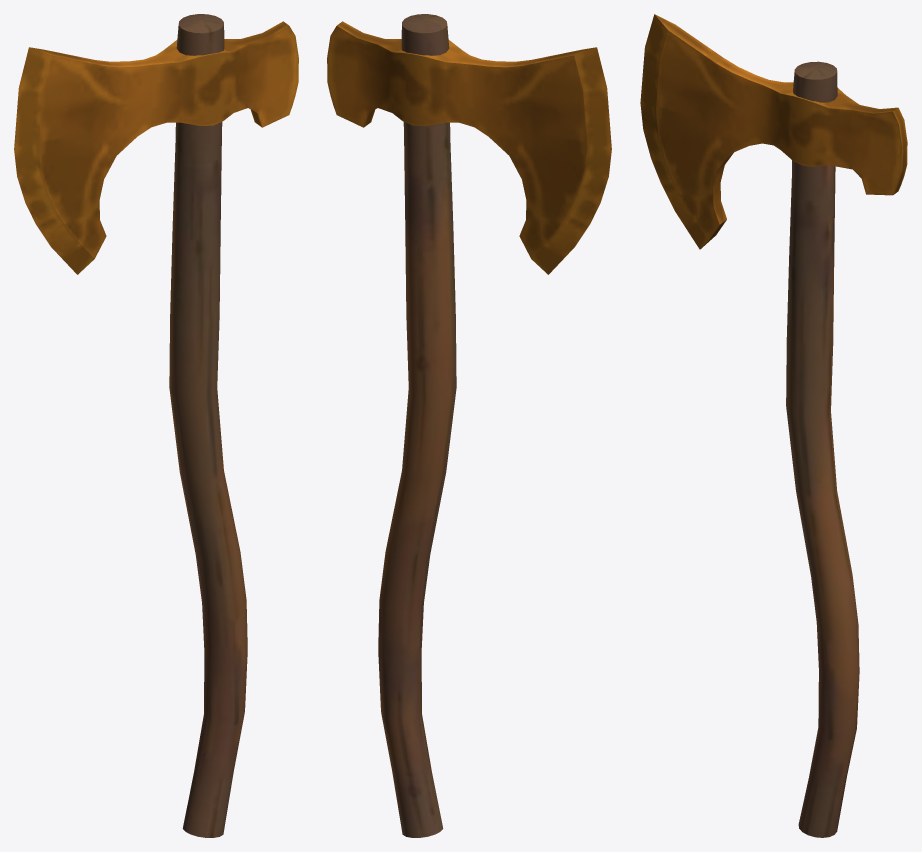
The model's file is Axe_Bronze.glb.
3 renders of one model, left to right at view 1: azimuth 30°, elevation 25°; view 2: azimuth 150°, elevation 25°; view 3: azimuth 330°, elevation 25°, orthographic. The views are drawn at different scales.
Parts seen in each view (by area): view 1: Axe_Bronze; view 2: Axe_Bronze; view 3: Axe_Bronze.
Part boxes in pixels (x1=…): Axe_Bronze: x1=14, y1=14, x2=298, y2=837; Axe_Bronze: x1=327, y1=14, x2=611, y2=837; Axe_Bronze: x1=640, y1=14, x2=907, y2=837.
Size of the model in its own units: 0.2945 by 0.8269 by 0.046.
1 material, 1 textured.
